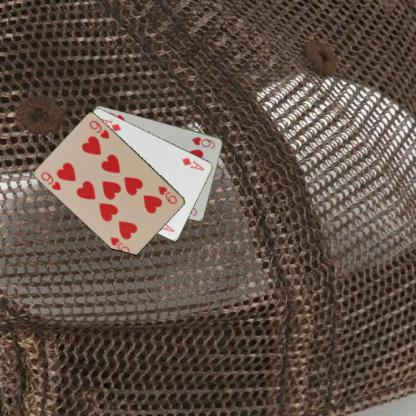6h: (190, 134, 216, 150)
9h: (38, 169, 63, 192), (156, 183, 179, 205)
Ad: (180, 154, 206, 172)
